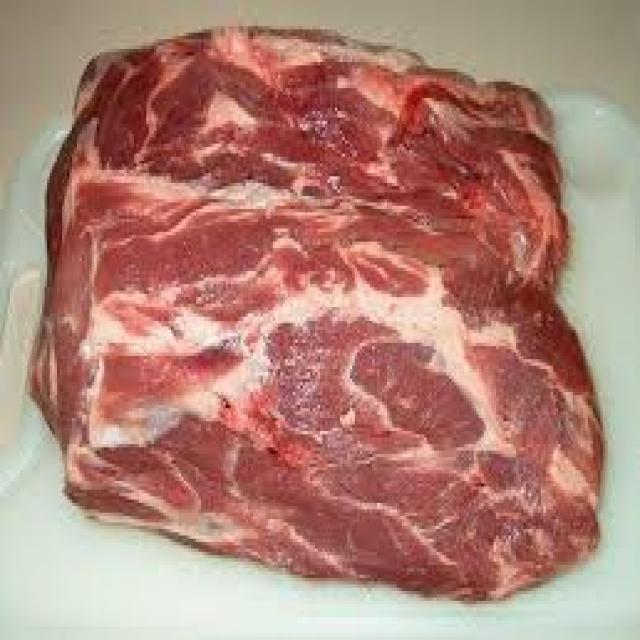Pork: (30, 29, 605, 599)
